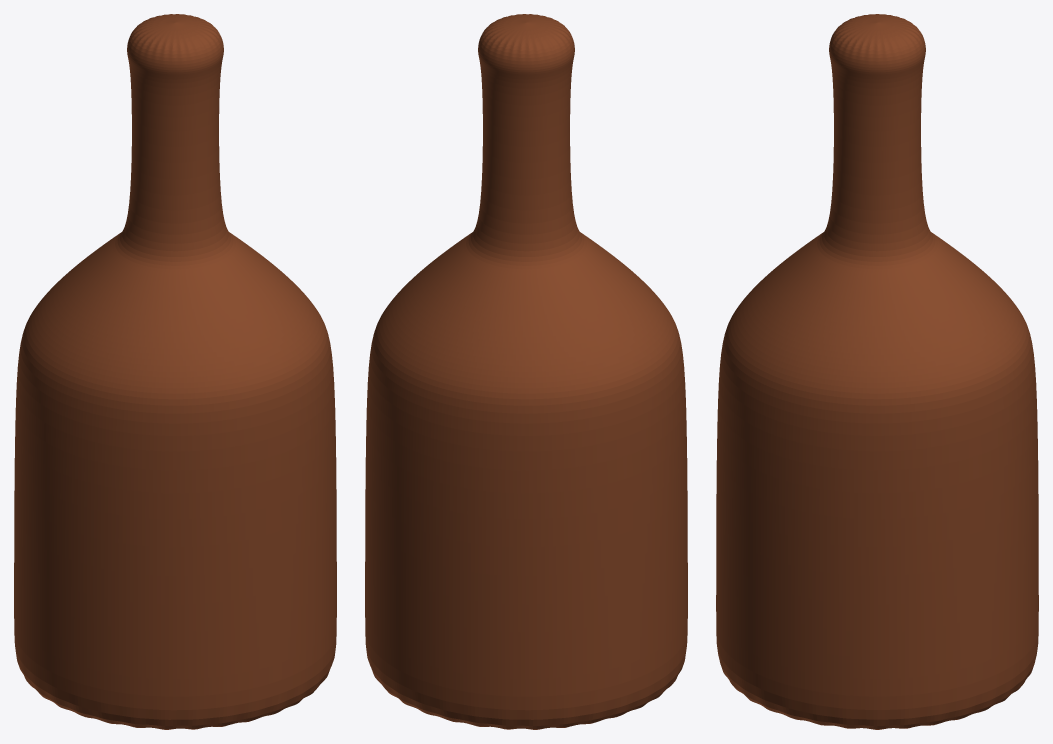
File: gutwarmer.fbx
3 renders of one model, left to right at view 1: azimuth 30°, elevation 25°; view 2: azimuth 150°, elevation 25°; view 3: azimuth 270°, elevation 25°, orthographic.
Visible parts, largest first — view 1: Cylinder; view 2: Cylinder; view 3: Cylinder.
Boxes of the visible parts, x1,y1,x2,y2 form: Cylinder: (14,14,336,729); Cylinder: (365,14,687,729); Cylinder: (716,14,1038,729).
Bounding box in the file's own units: 74.48 × 166 × 74.48.
